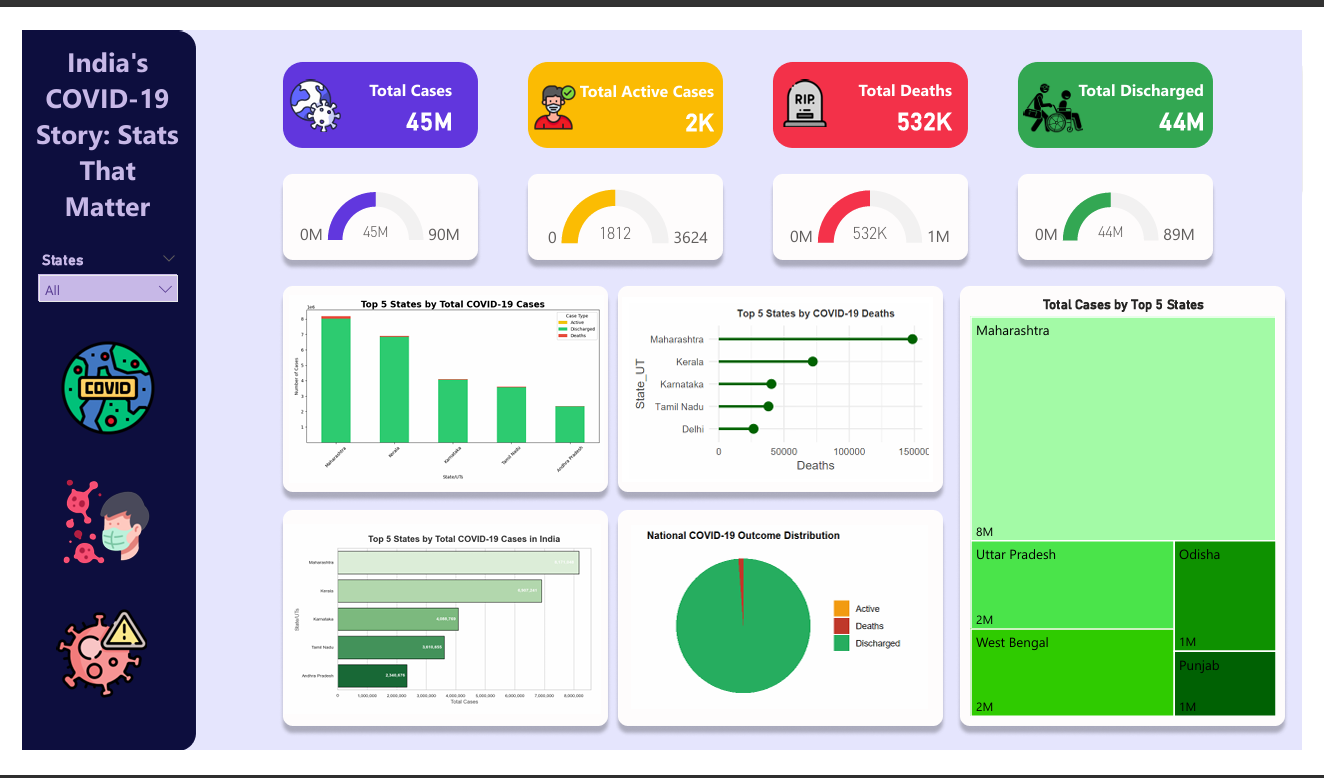

Layout of this report page (visuals, bound fields, positions):
{"tool":"powerbi","page":{"name":"Page 1","canvas":[1280,720],"ordinal":0},"visuals":[{"type":"image","box":[1001,47.1,60,60],"z":0},{"type":"pythonVisual","fields":{"Values":["data.Total Cases","data.State/UTs"]},"box":[261.4,491.9,316.4,193.2],"z":1000},{"type":"textbox","box":[4.8,7.4,159.1,203.6],"z":2000},{"type":"scriptVisual","fields":{"Values":["Sum(data.Discharged)","Sum(data.Total Cases)","Sum(data.Deaths)","data.State/UTs","Sum(data.Active)"]},"box":[603.1,490.1,306.7,194.3],"z":3000},{"type":"pythonVisual","fields":{"Values":["data.Active","data.Active Percentage","data.Active Ratio","data.Death Rate","data.Death Ratio","data.Deaths","data.Discharge Ratio","data.Population","data.Recovery Rate","data.Discharged","data.State/UTs","data.Total Cases"]},"box":[266.6,261.4,314.7,196.1],"z":4000},{"type":"treemap","title":"Total Cases by Top 5 States","fields":{"Group":["data.State/UTs"],"Values":["Sum(data.Total Cases)"]},"box":[943.2,265.6,314.9,424.7],"z":5000},{"type":"scriptVisual","fields":{"Values":["data.State/UTs","Sum(data.Deaths)"]},"box":[600.2,266.6,311.3,185.7],"z":6000},{"type":"slicer","fields":{"Values":["data.State_UTs"]},"box":[6.4,215.8,159.1,68.4],"z":7000},{"type":"cardVisual","title":"Total Cases","fields":{"Data":["Sum(data.Total Cases)"]},"box":[267.2,30.6,179.7,78.5],"z":8000},{"type":"cardVisual","title":"Total Cases","fields":{"Data":["Sum(data.Active)"]},"box":[530,32.4,178.6,77.1],"z":9000},{"type":"cardVisual","title":"Total Cases","fields":{"Data":["Sum(data.Deaths)"]},"box":[767.4,30.8,179.7,77.9],"z":10000},{"type":"cardVisual","title":"Total Cases","fields":{"Data":["Sum(data.Discharged)"]},"box":[1018.1,31.4,180,77.1],"z":11000},{"type":"gauge","fields":{"Y":["Sum(data.Total Cases)"]},"box":[267.2,152.2,179.7,70.5],"z":12000},{"type":"gauge","fields":{"Y":["Sum(data.Active)"]},"box":[515.4,152.7,179.7,70],"z":13000},{"type":"gauge","fields":{"Y":["Sum(data.Deaths)"]},"box":[757.1,152.7,179.7,70],"z":14000},{"type":"gauge","fields":{"Y":["Sum(data.Discharged)"]},"box":[1002.1,152.7,179.7,70],"z":15000},{"type":"image","box":[23.9,308.6,122.5,96.5],"z":16000},{"type":"image","box":[38.2,431.3,90.7,117.7],"z":17000},{"type":"image","box":[33.9,575.3,90.7,93.8],"z":18000},{"type":"image","box":[266.2,49,52.9,52.9],"z":19000},{"type":"image","box":[507.1,53.3,47.1,47.1],"z":20000},{"type":"image","box":[757.6,47.1,48.6,51.4],"z":21000}]}

Visuals, with their boxes on the page's 1280x720 design canvas (x1, y1, x2, y2). These are canvas units, not pixel positions in the 1324x778 screenshot, which may show the page scaled, cropped or inside an application window:
image: select_region(1001, 47, 1061, 107)
pythonVisual - data.Total Cases x data.State/UTs: select_region(261, 492, 578, 685)
textbox: select_region(5, 7, 164, 211)
scriptVisual - Sum(data.Discharged) x Sum(data.Total Cases): select_region(603, 490, 910, 684)
pythonVisual - data.Active x data.Active Percentage: select_region(267, 261, 581, 458)
"Total Cases by Top 5 States" treemap: select_region(943, 266, 1258, 690)
scriptVisual - data.State/UTs x Sum(data.Deaths): select_region(600, 267, 912, 452)
slicer - data.State_UTs: select_region(6, 216, 166, 284)
"Total Cases" cardVisual: select_region(267, 31, 447, 109)
"Total Cases" cardVisual: select_region(530, 32, 709, 110)
"Total Cases" cardVisual: select_region(767, 31, 947, 109)
"Total Cases" cardVisual: select_region(1018, 31, 1198, 108)
gauge - Sum(data.Total Cases): select_region(267, 152, 447, 223)
gauge - Sum(data.Active): select_region(515, 153, 695, 223)
gauge - Sum(data.Deaths): select_region(757, 153, 937, 223)
gauge - Sum(data.Discharged): select_region(1002, 153, 1182, 223)
image: select_region(24, 309, 146, 405)
image: select_region(38, 431, 129, 549)
image: select_region(34, 575, 125, 669)
image: select_region(266, 49, 319, 102)
image: select_region(507, 53, 554, 100)
image: select_region(758, 47, 806, 98)
